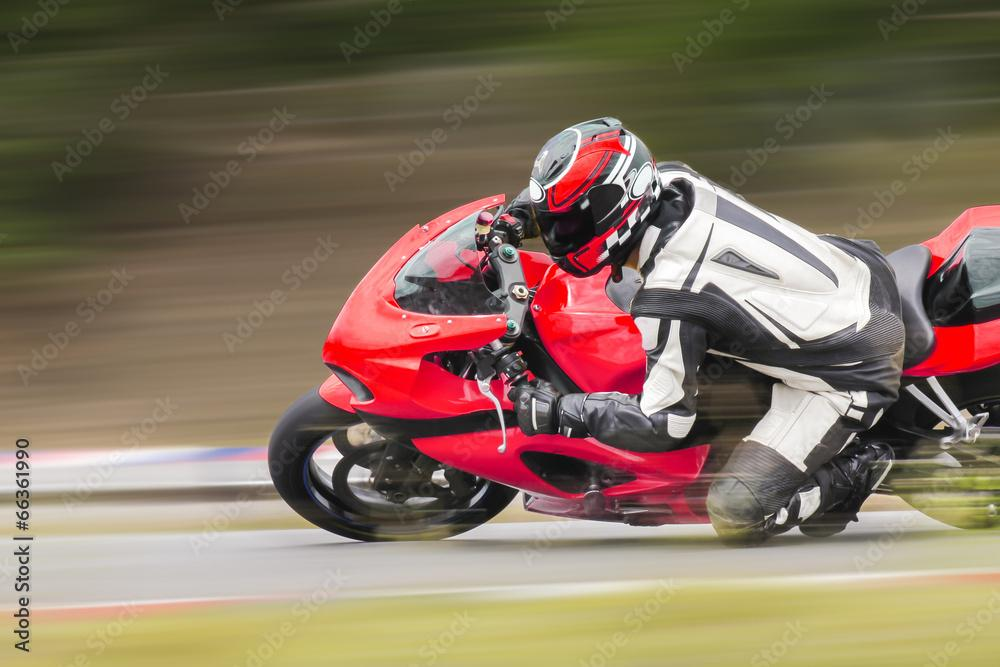helmet: (528, 115, 664, 280)
